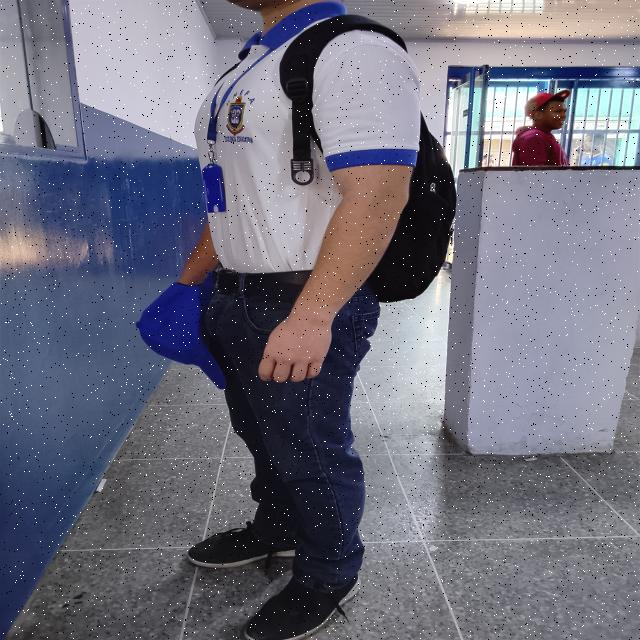carnet: (200, 167, 227, 213)
uniforme_superior: (193, 1, 421, 273)
